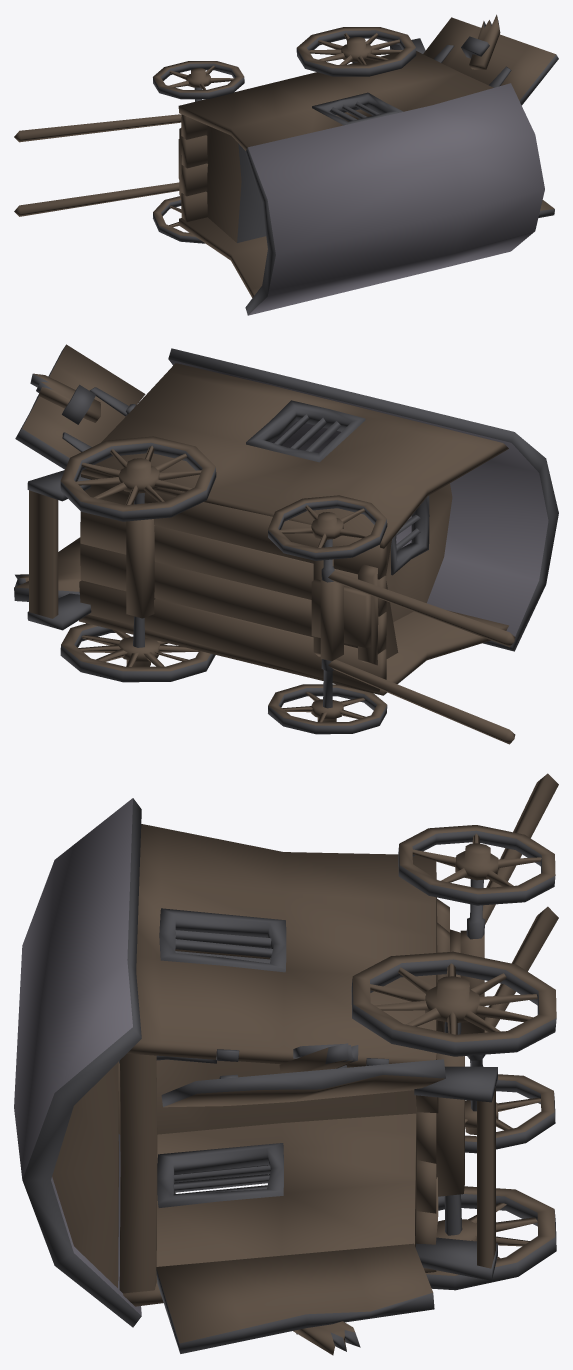
The model's file is prison_pack.fbx.
3 views of the same model, one above another, from view 1: azimuth 30°, elevation 25°; view 2: azimuth 150°, elevation 25°; view 3: azimuth 270°, elevation 25° (orthographic). The views are drawn at different scales.
Visible parts, largest first — view 1: prison; view 2: prison; view 3: prison.
Part boxes in pixels (x1=…): prison: x1=14, y1=14, x2=558, y2=315; prison: x1=14, y1=344, x2=558, y2=744; prison: x1=14, y1=773, x2=558, y2=1355.
Size of the model in its own units: 5.89 by 2.3 by 3.49.
1 material, 1 textured.
